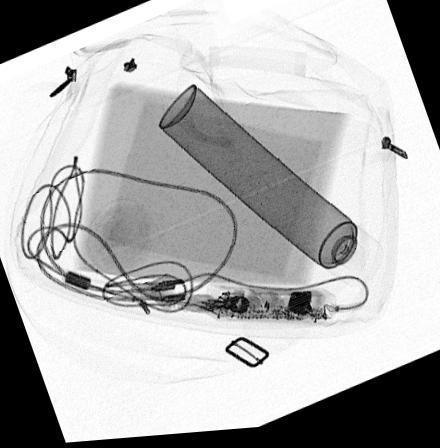Sprayer: (155, 86, 385, 293)
